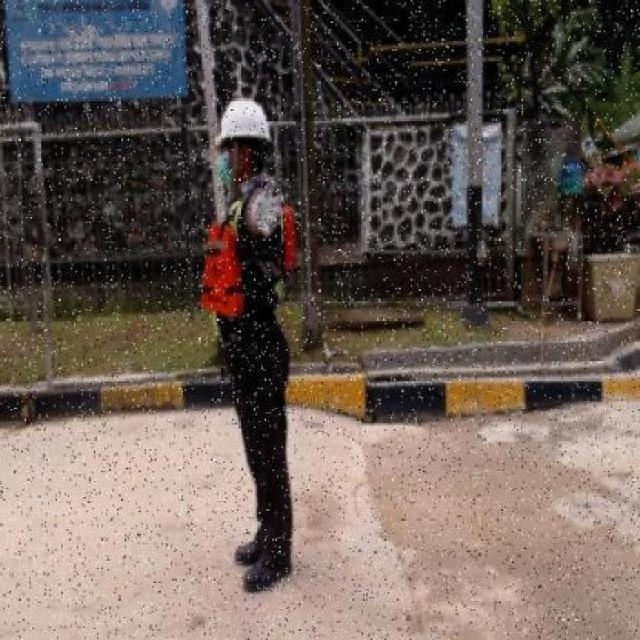Boots: (253, 178, 284, 239)
